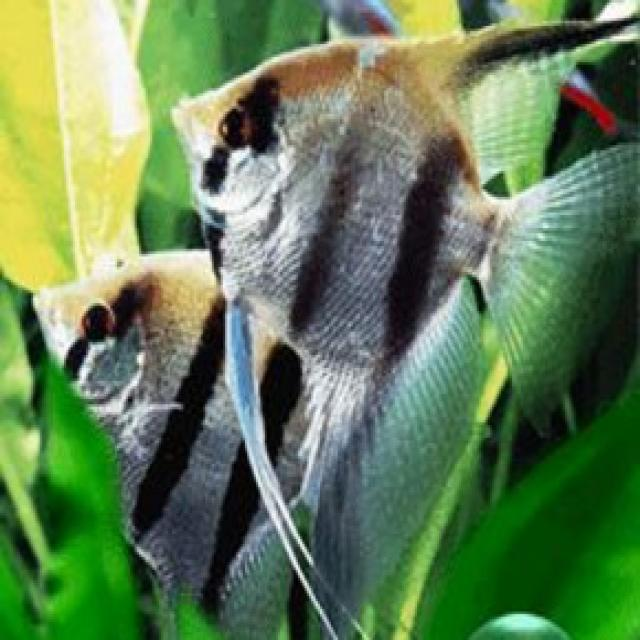AngelFish: (169, 15, 640, 612), (32, 249, 291, 640)
